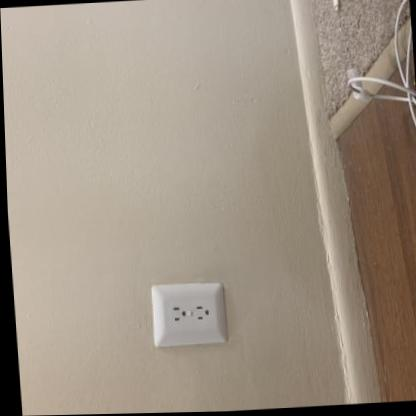OUTLET: (151, 278, 228, 346)
